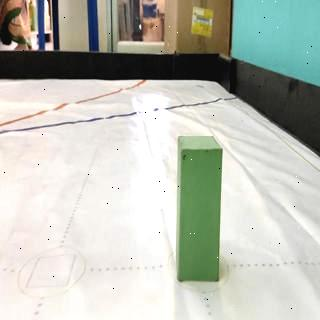greenbox: (176, 133, 222, 283)
